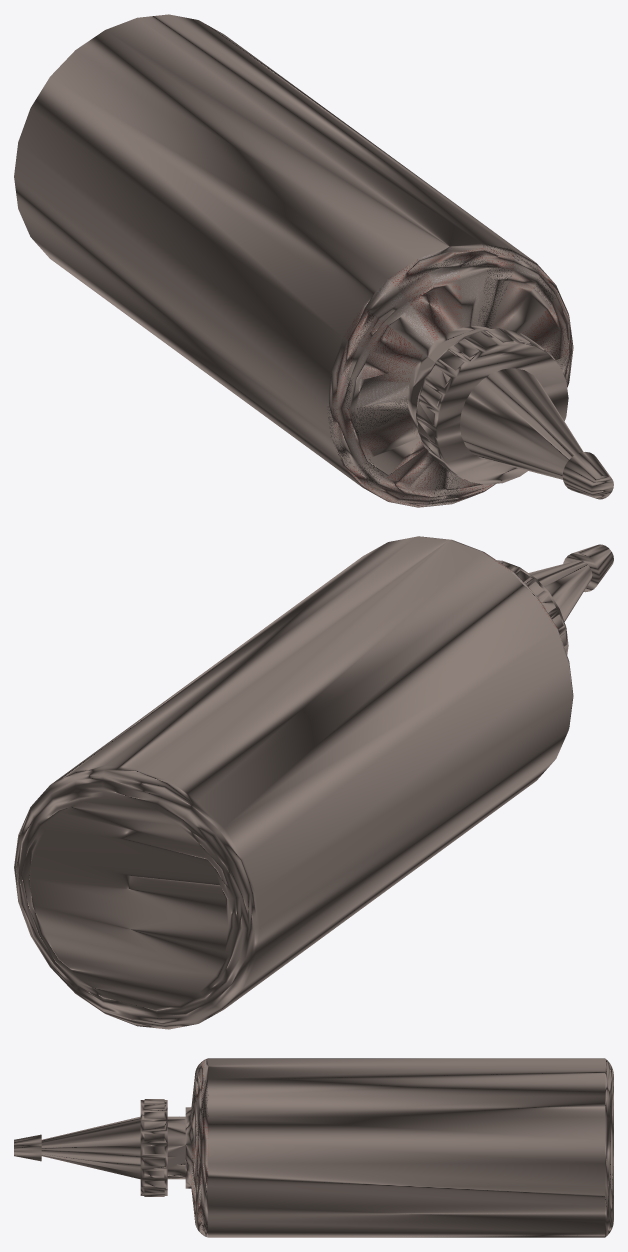
Rendered from model_align.obj.
The picture shows the model from 3 angles, top to bottom: view 1: azimuth 30°, elevation 25°; view 2: azimuth 150°, elevation 25°; view 3: azimuth 270°, elevation 25°; orthographic projection. The views are drawn at different scales.
Size of the model in its own units: 0.0842 by 0.0842 by 0.2801.
